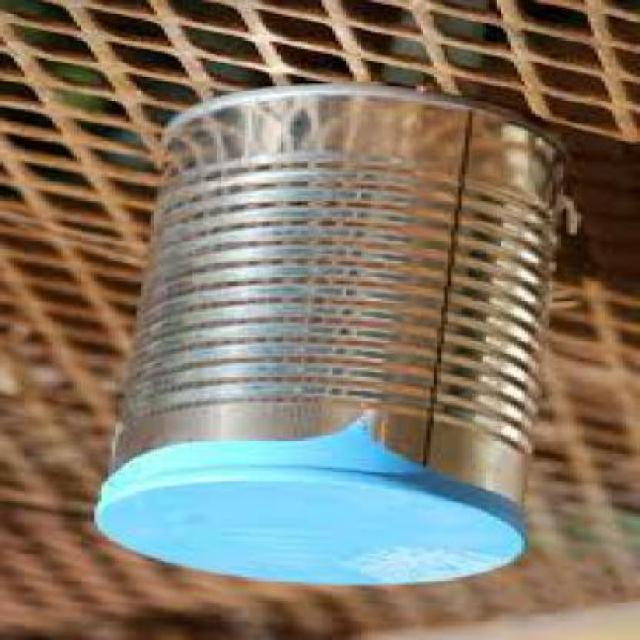METAL: (98, 87, 578, 588)
